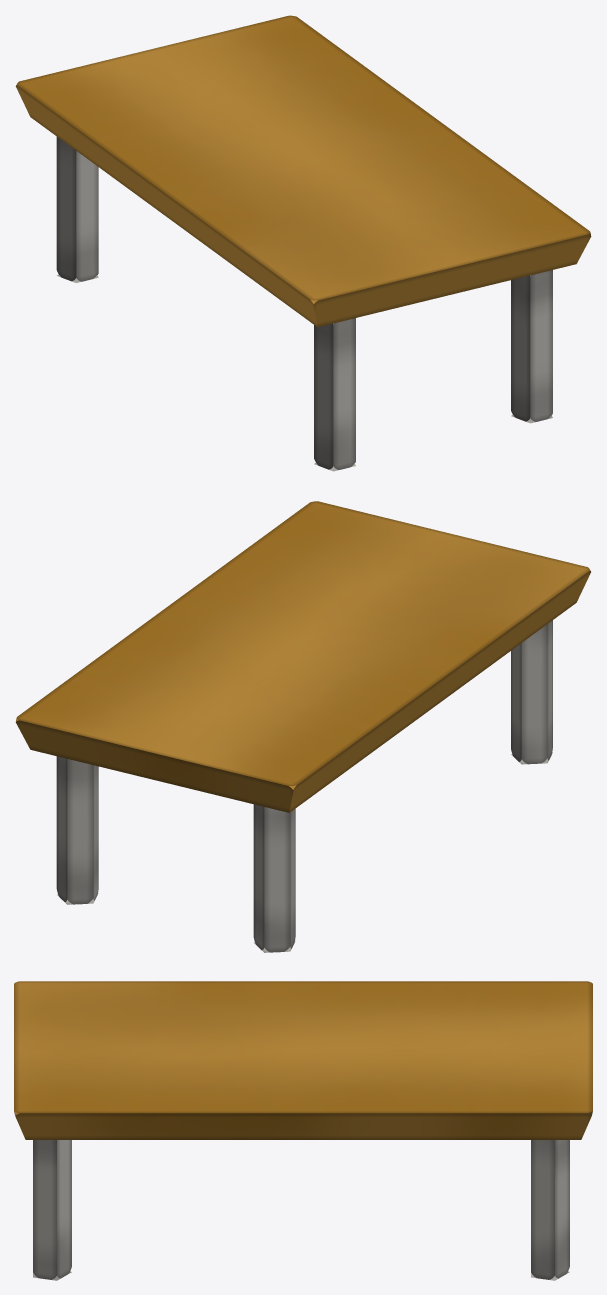
Rendered from table.fbx.
3 renders of one model, top to bottom at view 1: azimuth 30°, elevation 25°; view 2: azimuth 150°, elevation 25°; view 3: azimuth 270°, elevation 25°, orthographic. The views are drawn at different scales.
Parts seen in each view (by area): view 1: cuboid, cylinder_2, cylinder_1, cylinder_3; view 2: cuboid, cylinder_3, cylinder, cylinder_2; view 3: cuboid, cylinder, cylinder_1.
Part boxes in pixels (left/top/right/bottom): cuboid: left=15, top=15, right=591, bottom=327; cylinder_2: left=314, top=318, right=355, bottom=471; cylinder_1: left=511, top=270, right=552, bottom=423; cylinder_3: left=56, top=137, right=98, bottom=282; cuboid: left=15, top=501, right=590, bottom=812; cylinder_3: left=253, top=804, right=295, bottom=952; cylinder: left=56, top=756, right=98, bottom=904; cylinder_2: left=511, top=620, right=552, bottom=764; cuboid: left=14, top=981, right=592, bottom=1139; cylinder: left=531, top=1140, right=569, bottom=1280; cylinder_1: left=33, top=1140, right=71, bottom=1280.
Size of the model in its own units: 169 by 106 by 312.
Materials: 1 (1 with a texture image).
